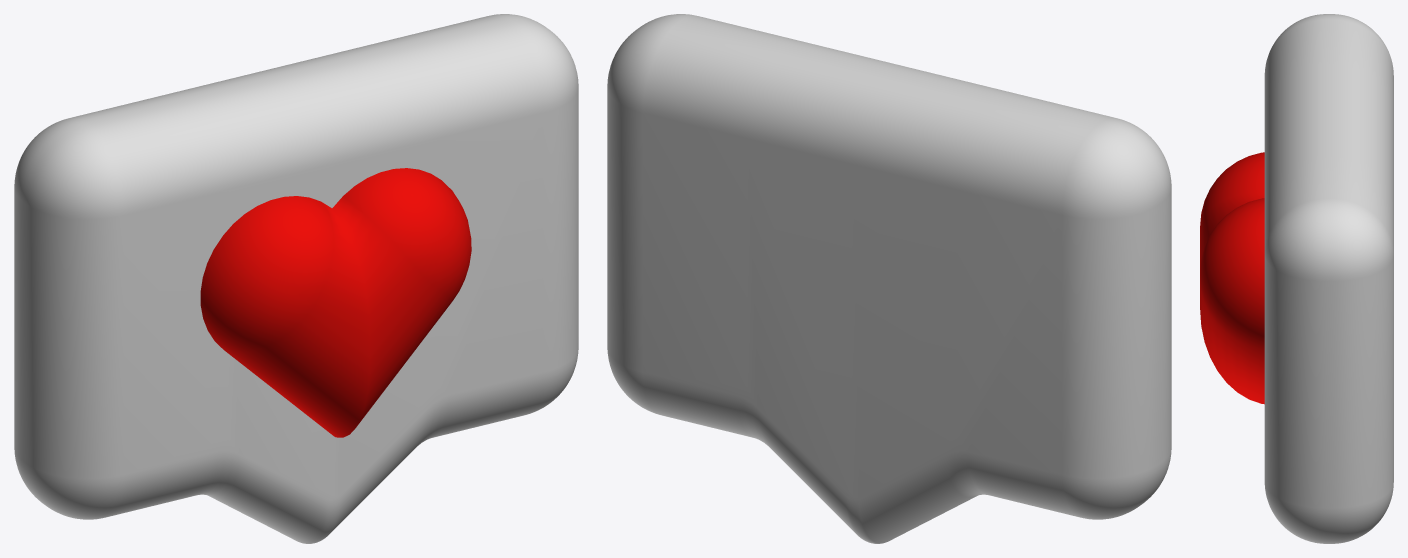
File: model_EmojiHeart.glb
3 views of the same model, side by side, from view 1: azimuth 30°, elevation 25°; view 2: azimuth 150°, elevation 25°; view 3: azimuth 270°, elevation 25° (orthographic). The views are drawn at different scales.
Visible parts, largest first — view 1: Cube.003_59, Cube.018_58; view 2: Cube.003_59; view 3: Cube.003_59, Cube.018_58.
Boxes of the visible parts, bbox=[...] form: Cube.003_59: bbox=[14, 14, 578, 543]; Cube.018_58: bbox=[200, 168, 471, 437]; Cube.003_59: bbox=[607, 14, 1171, 543]; Cube.003_59: bbox=[1264, 14, 1393, 543]; Cube.018_58: bbox=[1200, 152, 1264, 404].
Size of the model in its own units: 0.4215 by 0.3451 by 0.1491.
